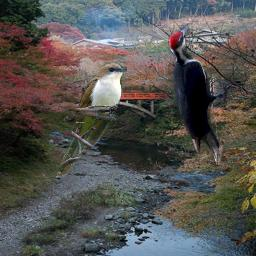Cuckoo: (55, 61, 127, 178)
Woodpecker: (168, 23, 234, 165)
